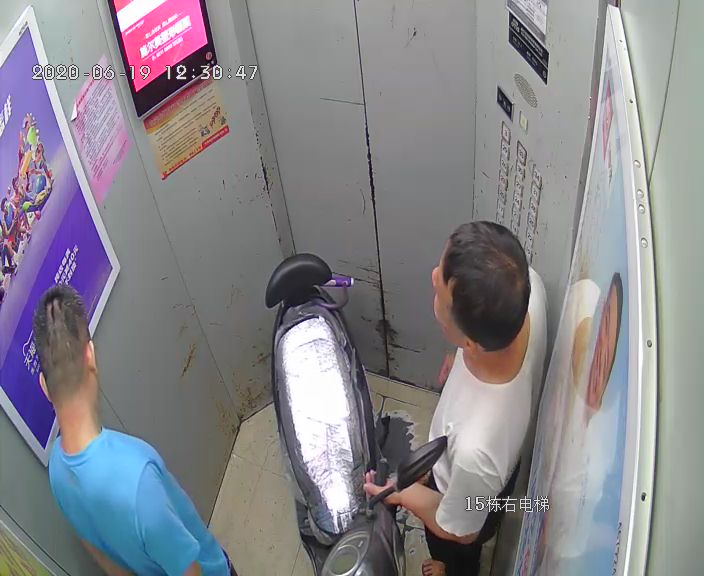Electric-bicycle: (250, 250, 444, 576)
